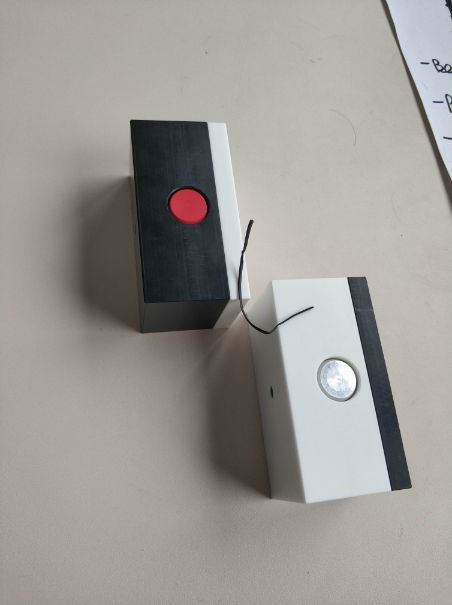black+white+silver: (247, 274, 415, 508)
white+black+red: (126, 117, 255, 334)
